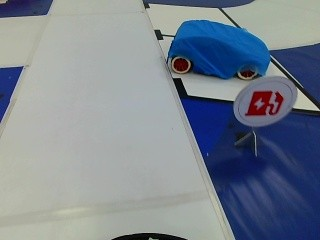battery: (243, 85, 284, 120)
car: (161, 18, 273, 80)
